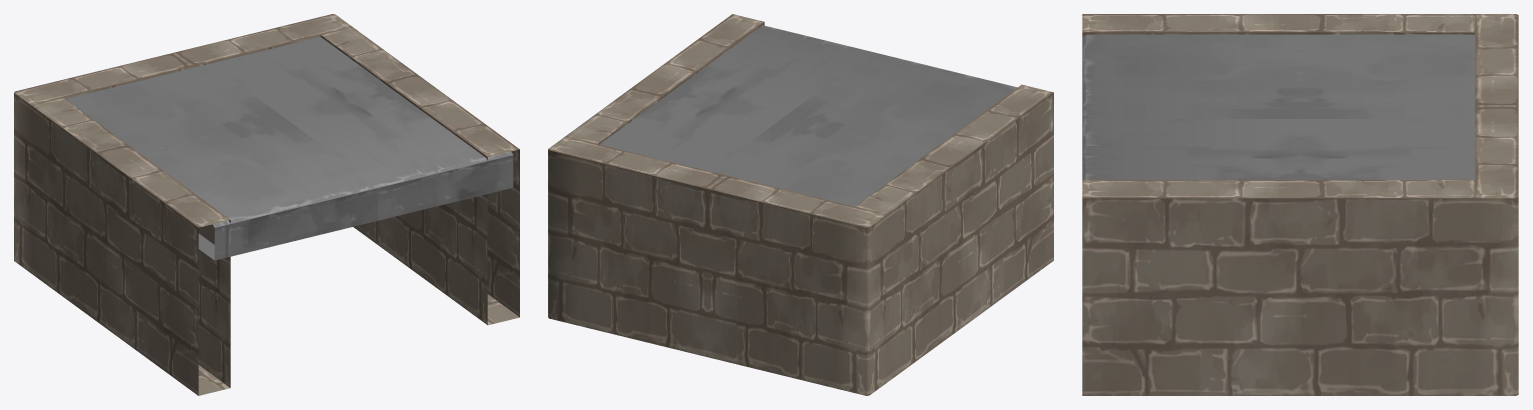
File: stairs_exterior_platformu.glb
3 renders of one model, left to right at view 1: azimuth 30°, elevation 25°; view 2: azimuth 150°, elevation 25°; view 3: azimuth 270°, elevation 25°, orthographic. The views are drawn at different scales.
Bounding box in the file's own units: 2 × 1 × 2.
Materials: 2 (2 with a texture image).
